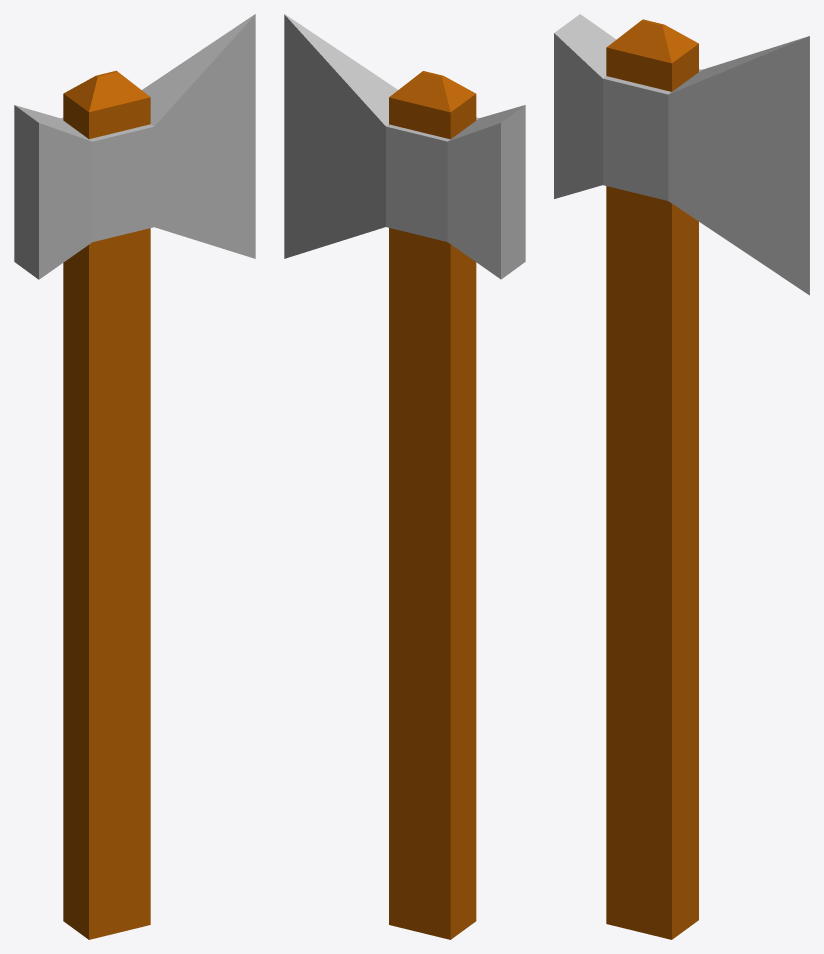
File: Axe.fbx
3 renders of one model, left to right at view 1: azimuth 30°, elevation 25°; view 2: azimuth 150°, elevation 25°; view 3: azimuth 330°, elevation 25°, orthographic. The views are drawn at different scales.
Parts seen in each view (by area): view 1: Cube; view 2: Cube; view 3: Cube.
Part boxes in pixels (x1=…): Cube: x1=14, y1=14, x2=255, y2=939; Cube: x1=284, y1=14, x2=525, y2=939; Cube: x1=554, y1=14, x2=809, y2=939.
Size of the model in its own units: 437 by 1593 by 106.
